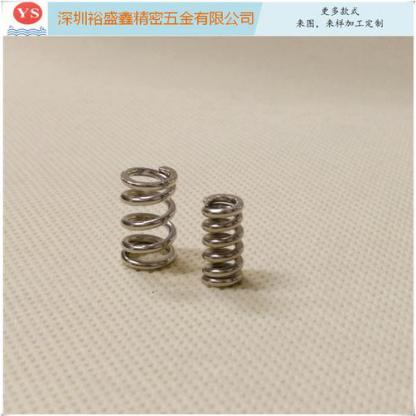FOD: (118, 163, 179, 275), (198, 189, 247, 287)
